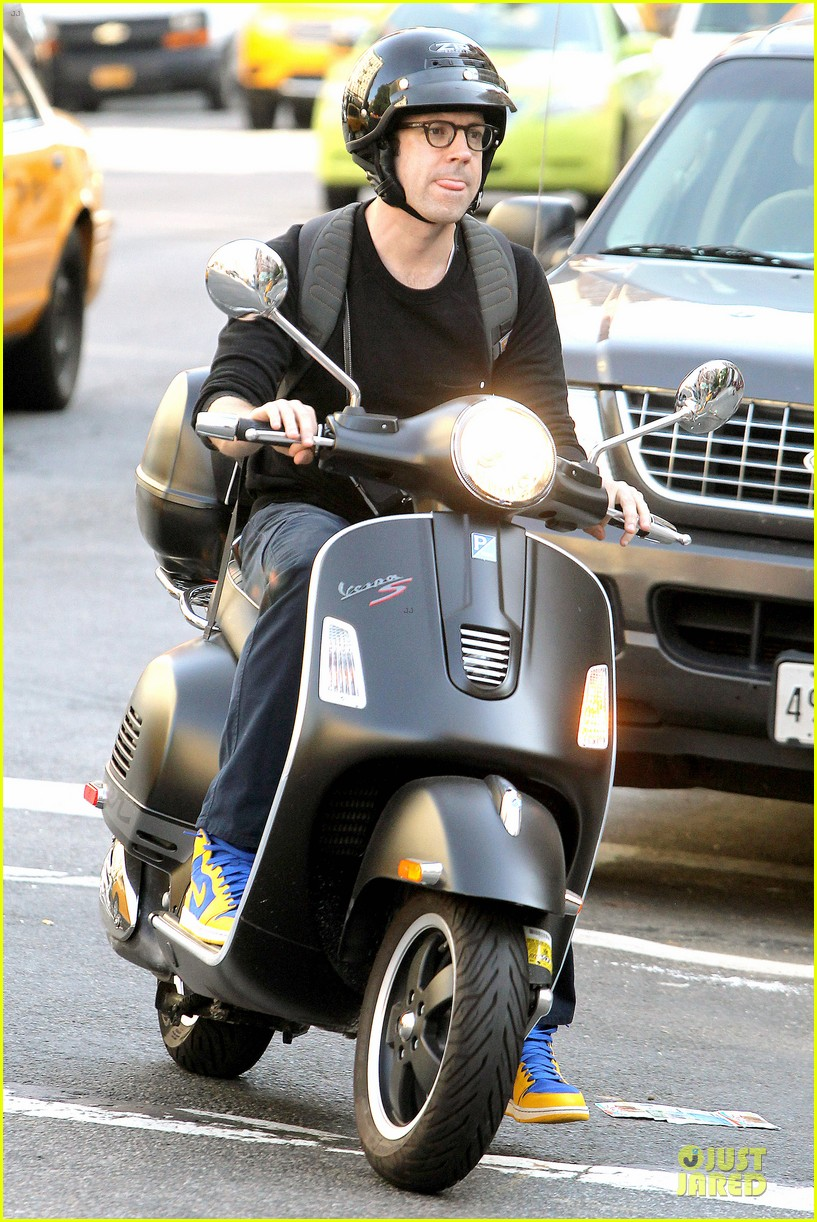helmet: (204, 35, 696, 935)
